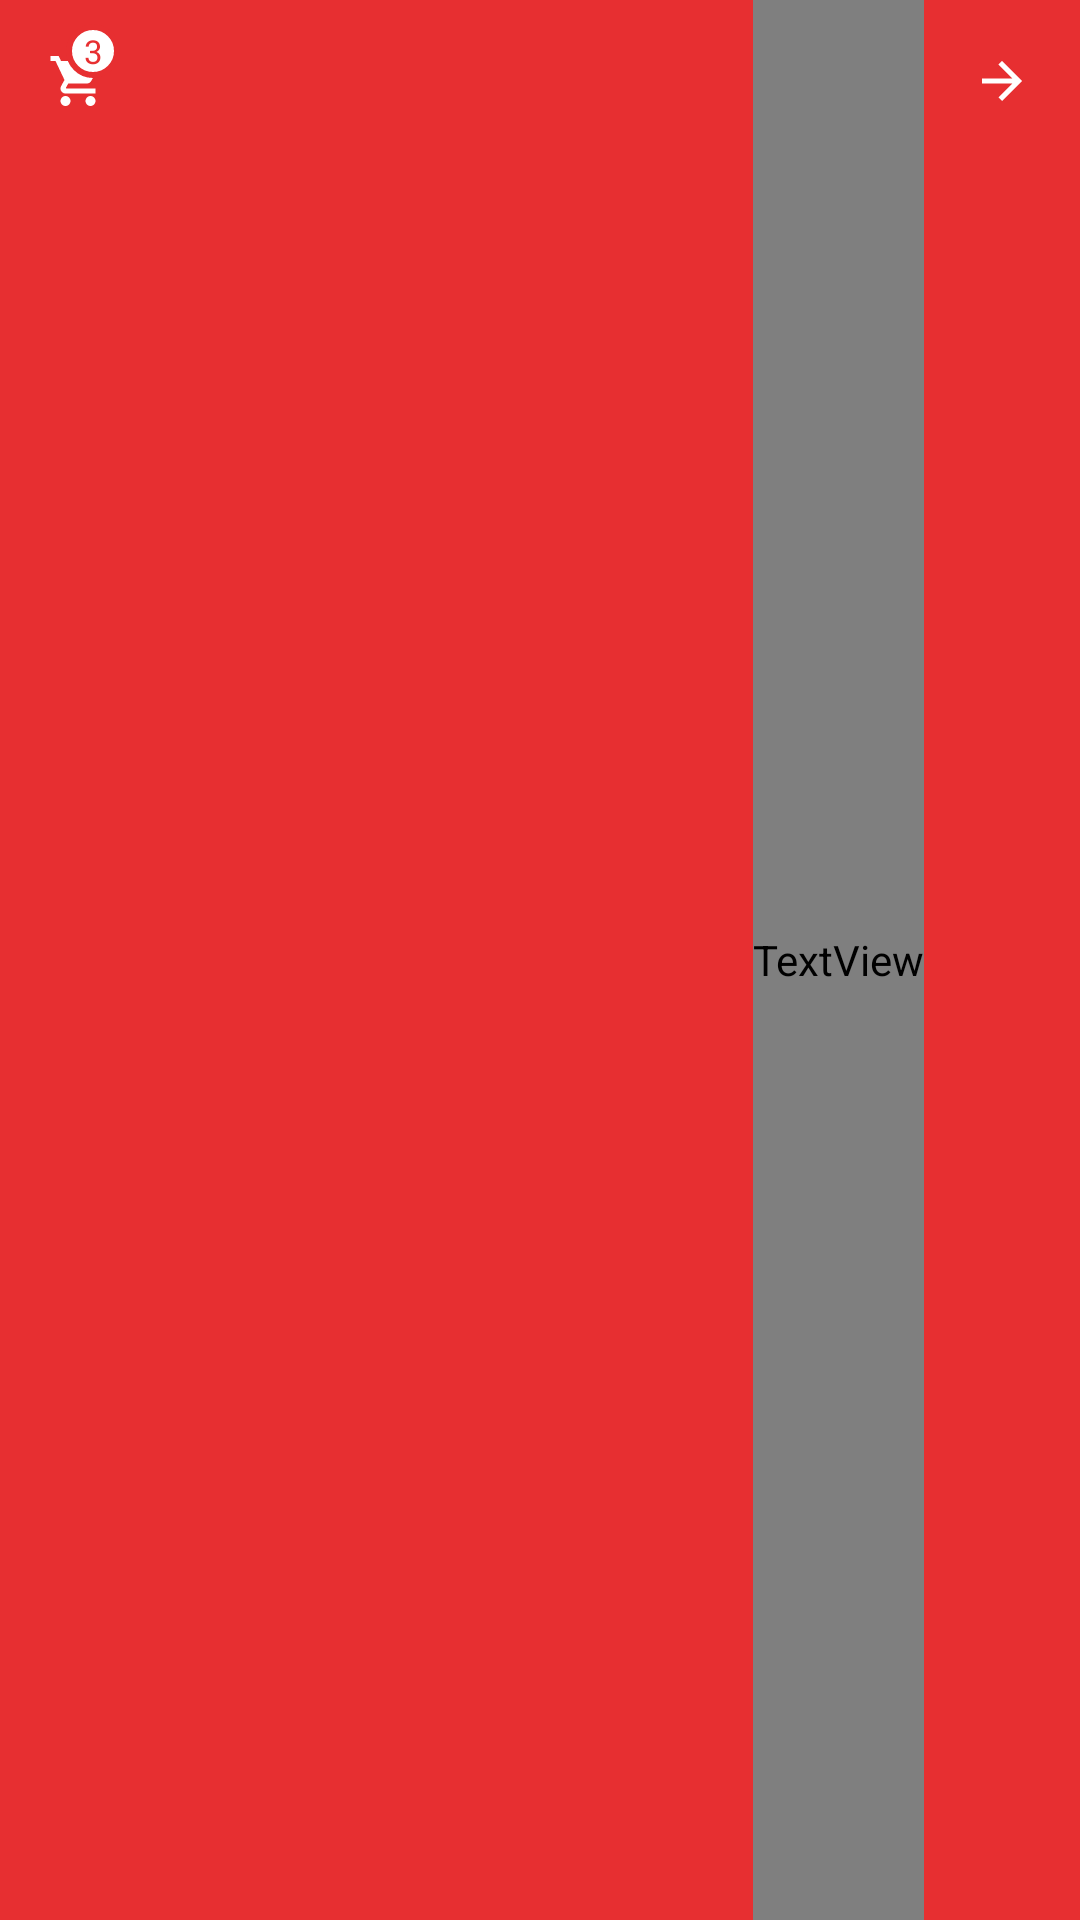

Icons on this 1080*1920 Android screen, each with its box as (x1, y1, x2, y2):
shopping cart: (50, 30, 114, 106)
